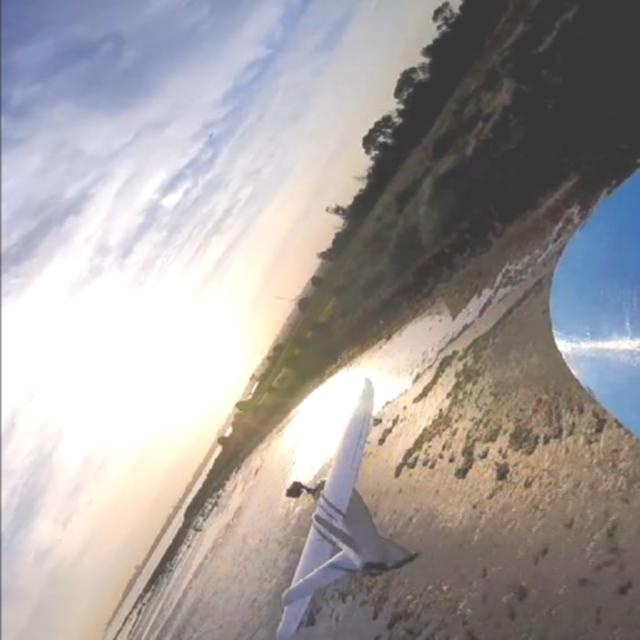plane: (272, 377, 417, 640)
